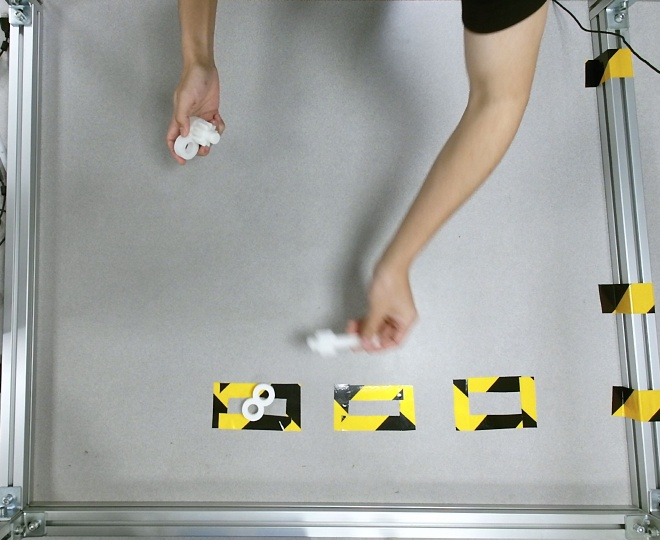stage_2: (174, 115, 219, 160)
